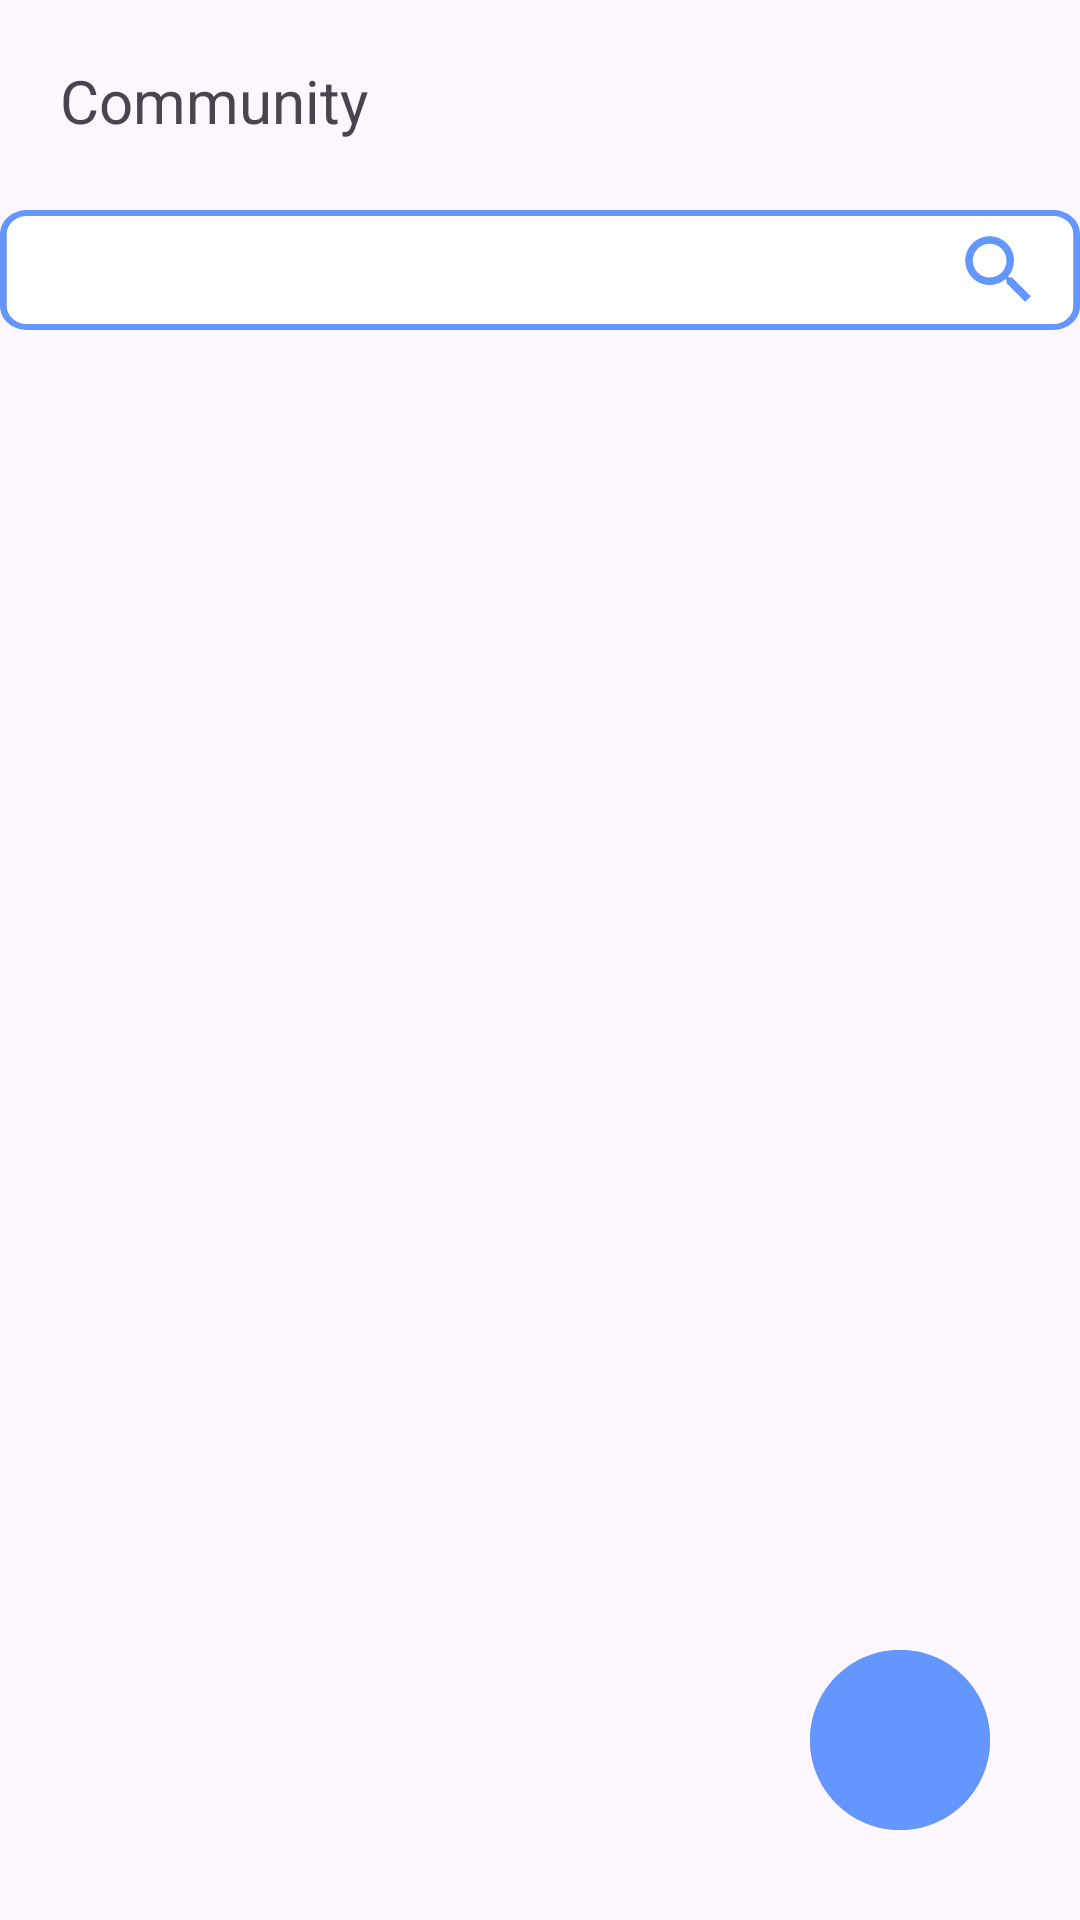

Screen size 1080×1920. Icon name, then its box in pixels as (x1=x1, y1=y1, x2=x2, y2=y2):
search: (x1=965, y1=236, x2=1031, y2=302)
